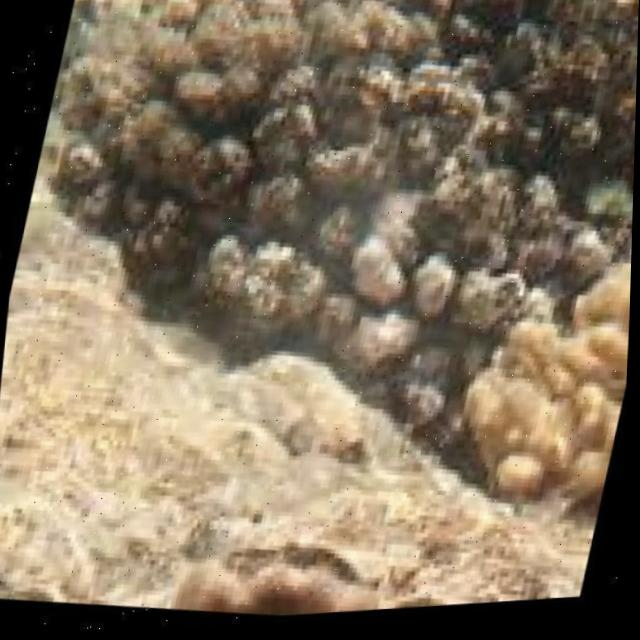Dead Coral: (39, 0, 640, 433)
